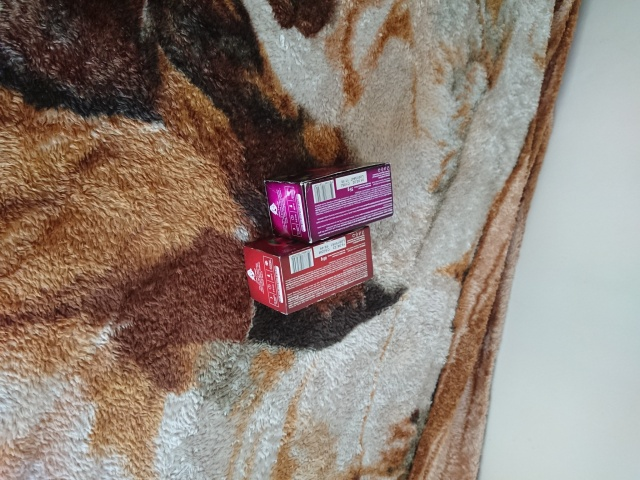Franck Apple Cinnamon Tea 60g: (240, 222, 376, 318)
Franck Black Currant Tea 60g: (261, 159, 397, 246)
